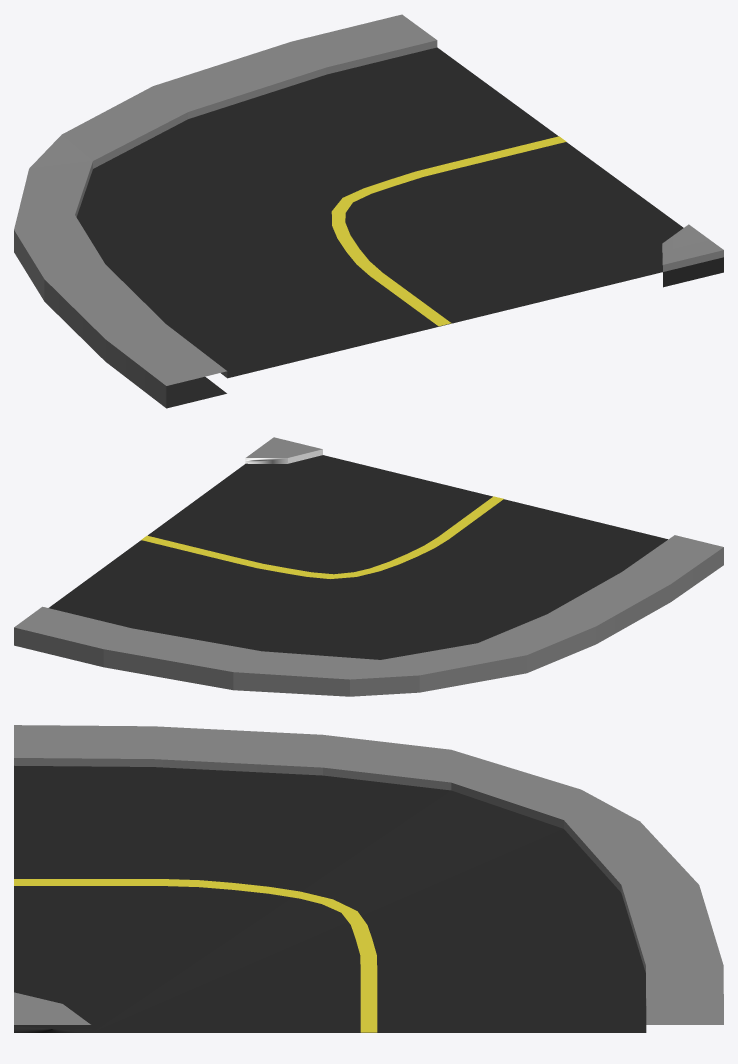
The model's file is curvedroad.fbx.
3 views of the same model, one above another, from view 1: azimuth 30°, elevation 25°; view 2: azimuth 150°, elevation 25°; view 3: azimuth 270°, elevation 25° (orthographic). The views are drawn at different scales.
Visible parts, largest first — view 1: Roads.004; view 2: Roads.004; view 3: Roads.004.
Boxes of the visible parts, bbox=[...] form: Roads.004: bbox=[14, 14, 723, 408]; Roads.004: bbox=[14, 437, 723, 696]; Roads.004: bbox=[14, 725, 723, 1032].
Size of the model in its own units: 1154 by 44.38 by 1154.
